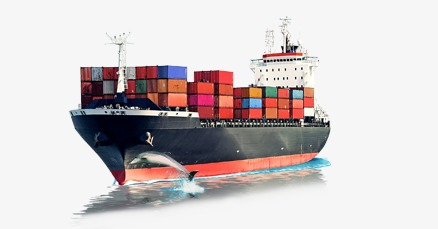Cargoship: (67, 21, 332, 186)
